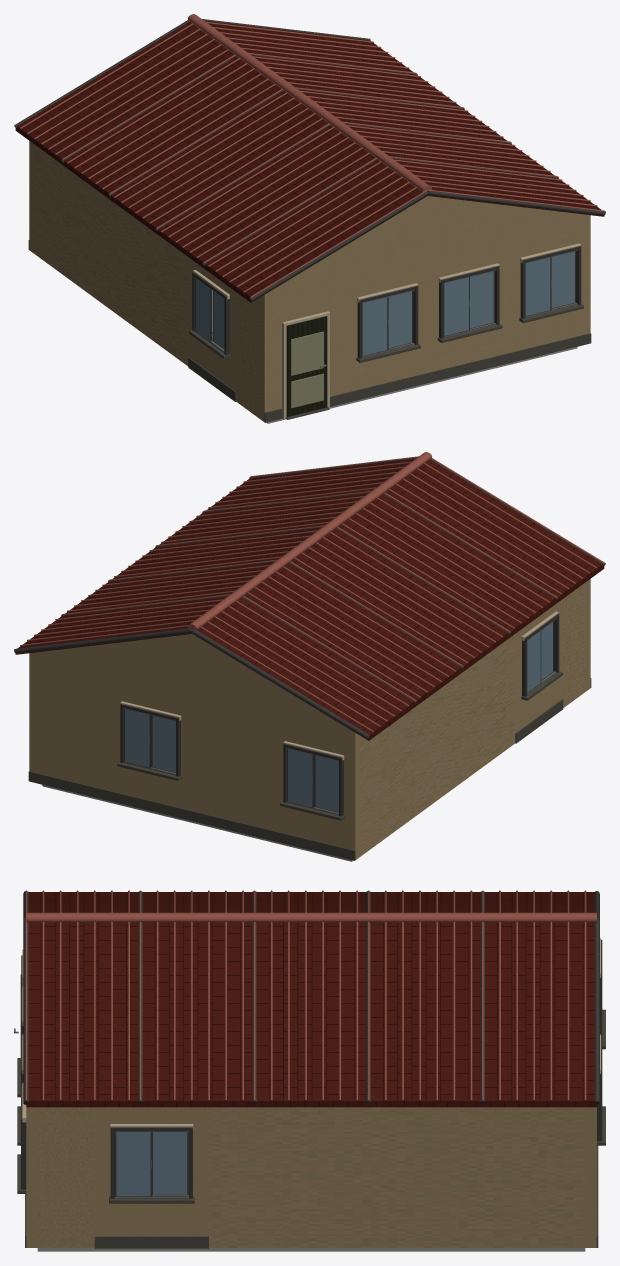
The model's file is MS_RR_B02_StandardFamilyBungalow.glb.
3 renders of one model, top to bottom at view 1: azimuth 30°, elevation 25°; view 2: azimuth 150°, elevation 25°; view 3: azimuth 270°, elevation 25°, orthographic. The views are drawn at different scales.
Visible parts, largest first — view 1: StaticBatch32, StaticBatch2, StaticBatch23, StaticBatch42, Plaster_005, StaticBatch6, StaticBatch3, RaisedPanel, Leaf_001, Glass_001, Glass_0013, Glass_0012 (+13 smaller); view 2: StaticBatch32, StaticBatch2, StaticBatch23, StaticBatch42, StaticBatch6, StaticBatch3, StaticBatch4, Glass_0015, Glass_0014, Glass4, Glass5, Frame6 (+7 smaller); view 3: StaticBatch32, StaticBatch2, StaticBatch23, StaticBatch6, StaticBatch3, Glass_0017, Glass7, StaticBatch5, Frame7, StaticBatch.
Boxes of the visible parts, bbox=[...] form: StaticBatch32: bbox=[15, 20, 604, 302]; StaticBatch2: bbox=[29, 141, 590, 418]; StaticBatch23: bbox=[20, 14, 604, 297]; StaticBatch42: bbox=[265, 196, 589, 294]; Plaster_005: bbox=[260, 275, 345, 421]; StaticBatch6: bbox=[14, 19, 605, 301]; StaticBatch3: bbox=[28, 240, 591, 402]; RaisedPanel: bbox=[291, 331, 323, 408]; Leaf_001: bbox=[286, 316, 327, 416]; Glass_001: bbox=[362, 297, 387, 355]; Glass_0013: bbox=[525, 257, 550, 315]; Glass_0012: bbox=[444, 277, 468, 335]; StaticBatch32: bbox=[15, 458, 604, 740]; StaticBatch2: bbox=[29, 582, 585, 860]; StaticBatch23: bbox=[20, 452, 604, 732]; StaticBatch42: bbox=[30, 634, 353, 731]; StaticBatch6: bbox=[14, 457, 605, 739]; StaticBatch3: bbox=[110, 671, 563, 860]; StaticBatch4: bbox=[28, 771, 273, 840]; Glass_0015: bbox=[288, 749, 312, 807]; Glass_0014: bbox=[125, 709, 149, 767]; Glass4: bbox=[152, 716, 175, 772]; Glass5: bbox=[315, 755, 338, 812]; Frame6: bbox=[522, 613, 559, 696]; StaticBatch32: bbox=[26, 892, 596, 1107]; StaticBatch2: bbox=[26, 1107, 596, 1247]; StaticBatch23: bbox=[25, 890, 596, 1100]; StaticBatch6: bbox=[23, 891, 599, 1104]; StaticBatch3: bbox=[17, 1009, 605, 1248]; Glass_0017: bbox=[116, 1132, 150, 1196]; Glass7: bbox=[153, 1132, 187, 1194]; StaticBatch5: bbox=[37, 1248, 585, 1251]; Frame7: bbox=[110, 1127, 192, 1198]; StaticBatch: bbox=[22, 938, 600, 1130].
Size of the model in its own units: 8.73 by 4.77 by 10.38.
21 materials, 6 textured.
